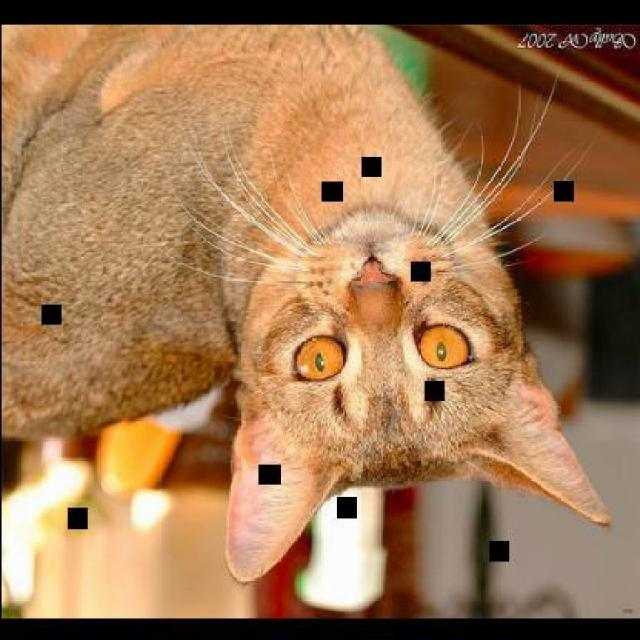unauthorized: (0, 23, 612, 584)
